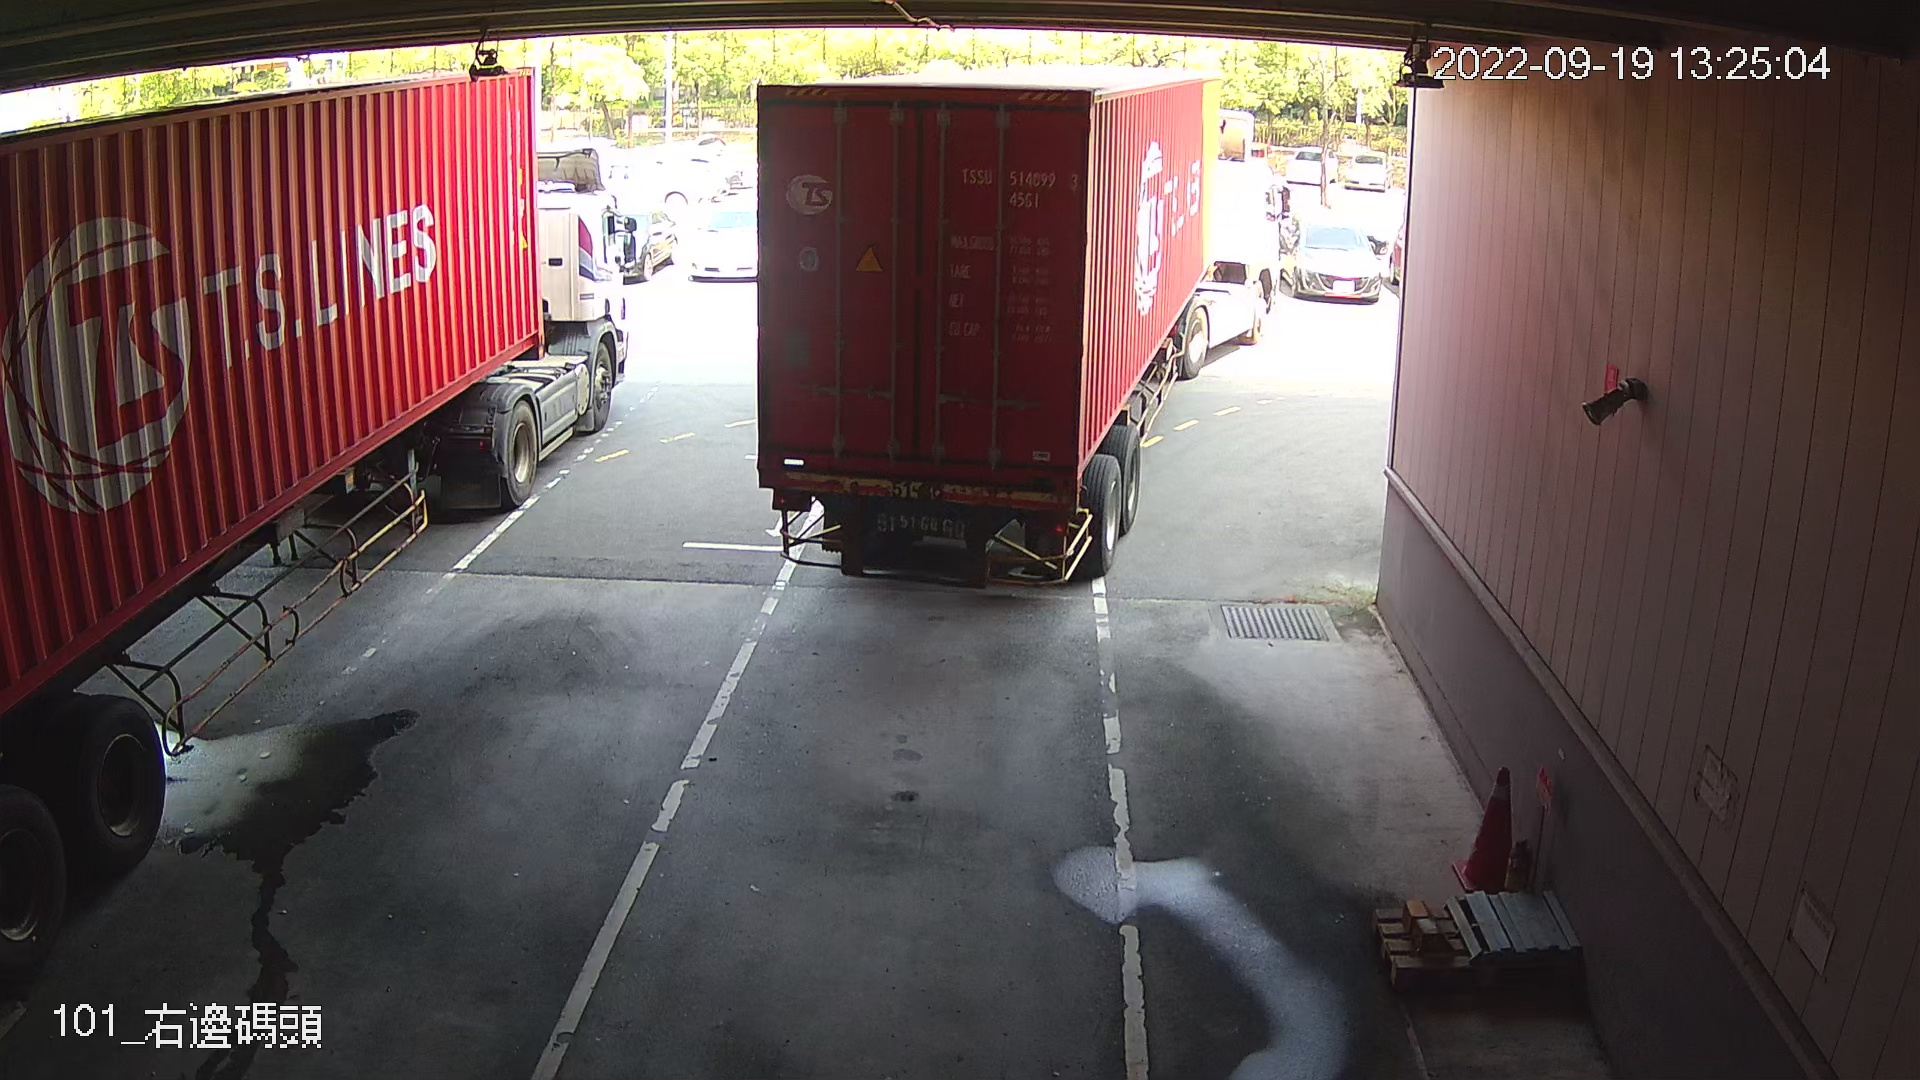container: (953, 156, 1085, 216)
